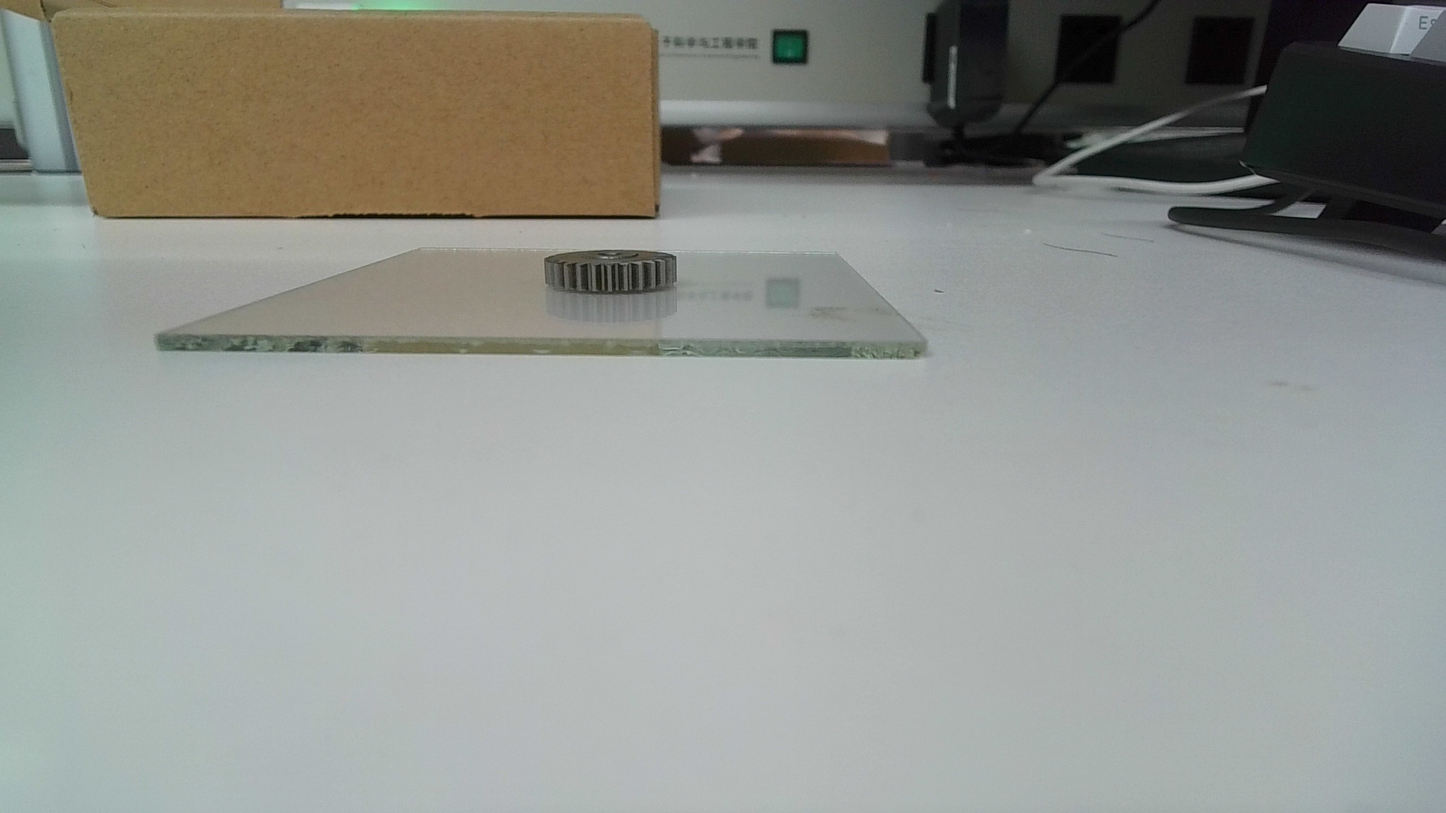gear: (541, 248, 683, 296)
